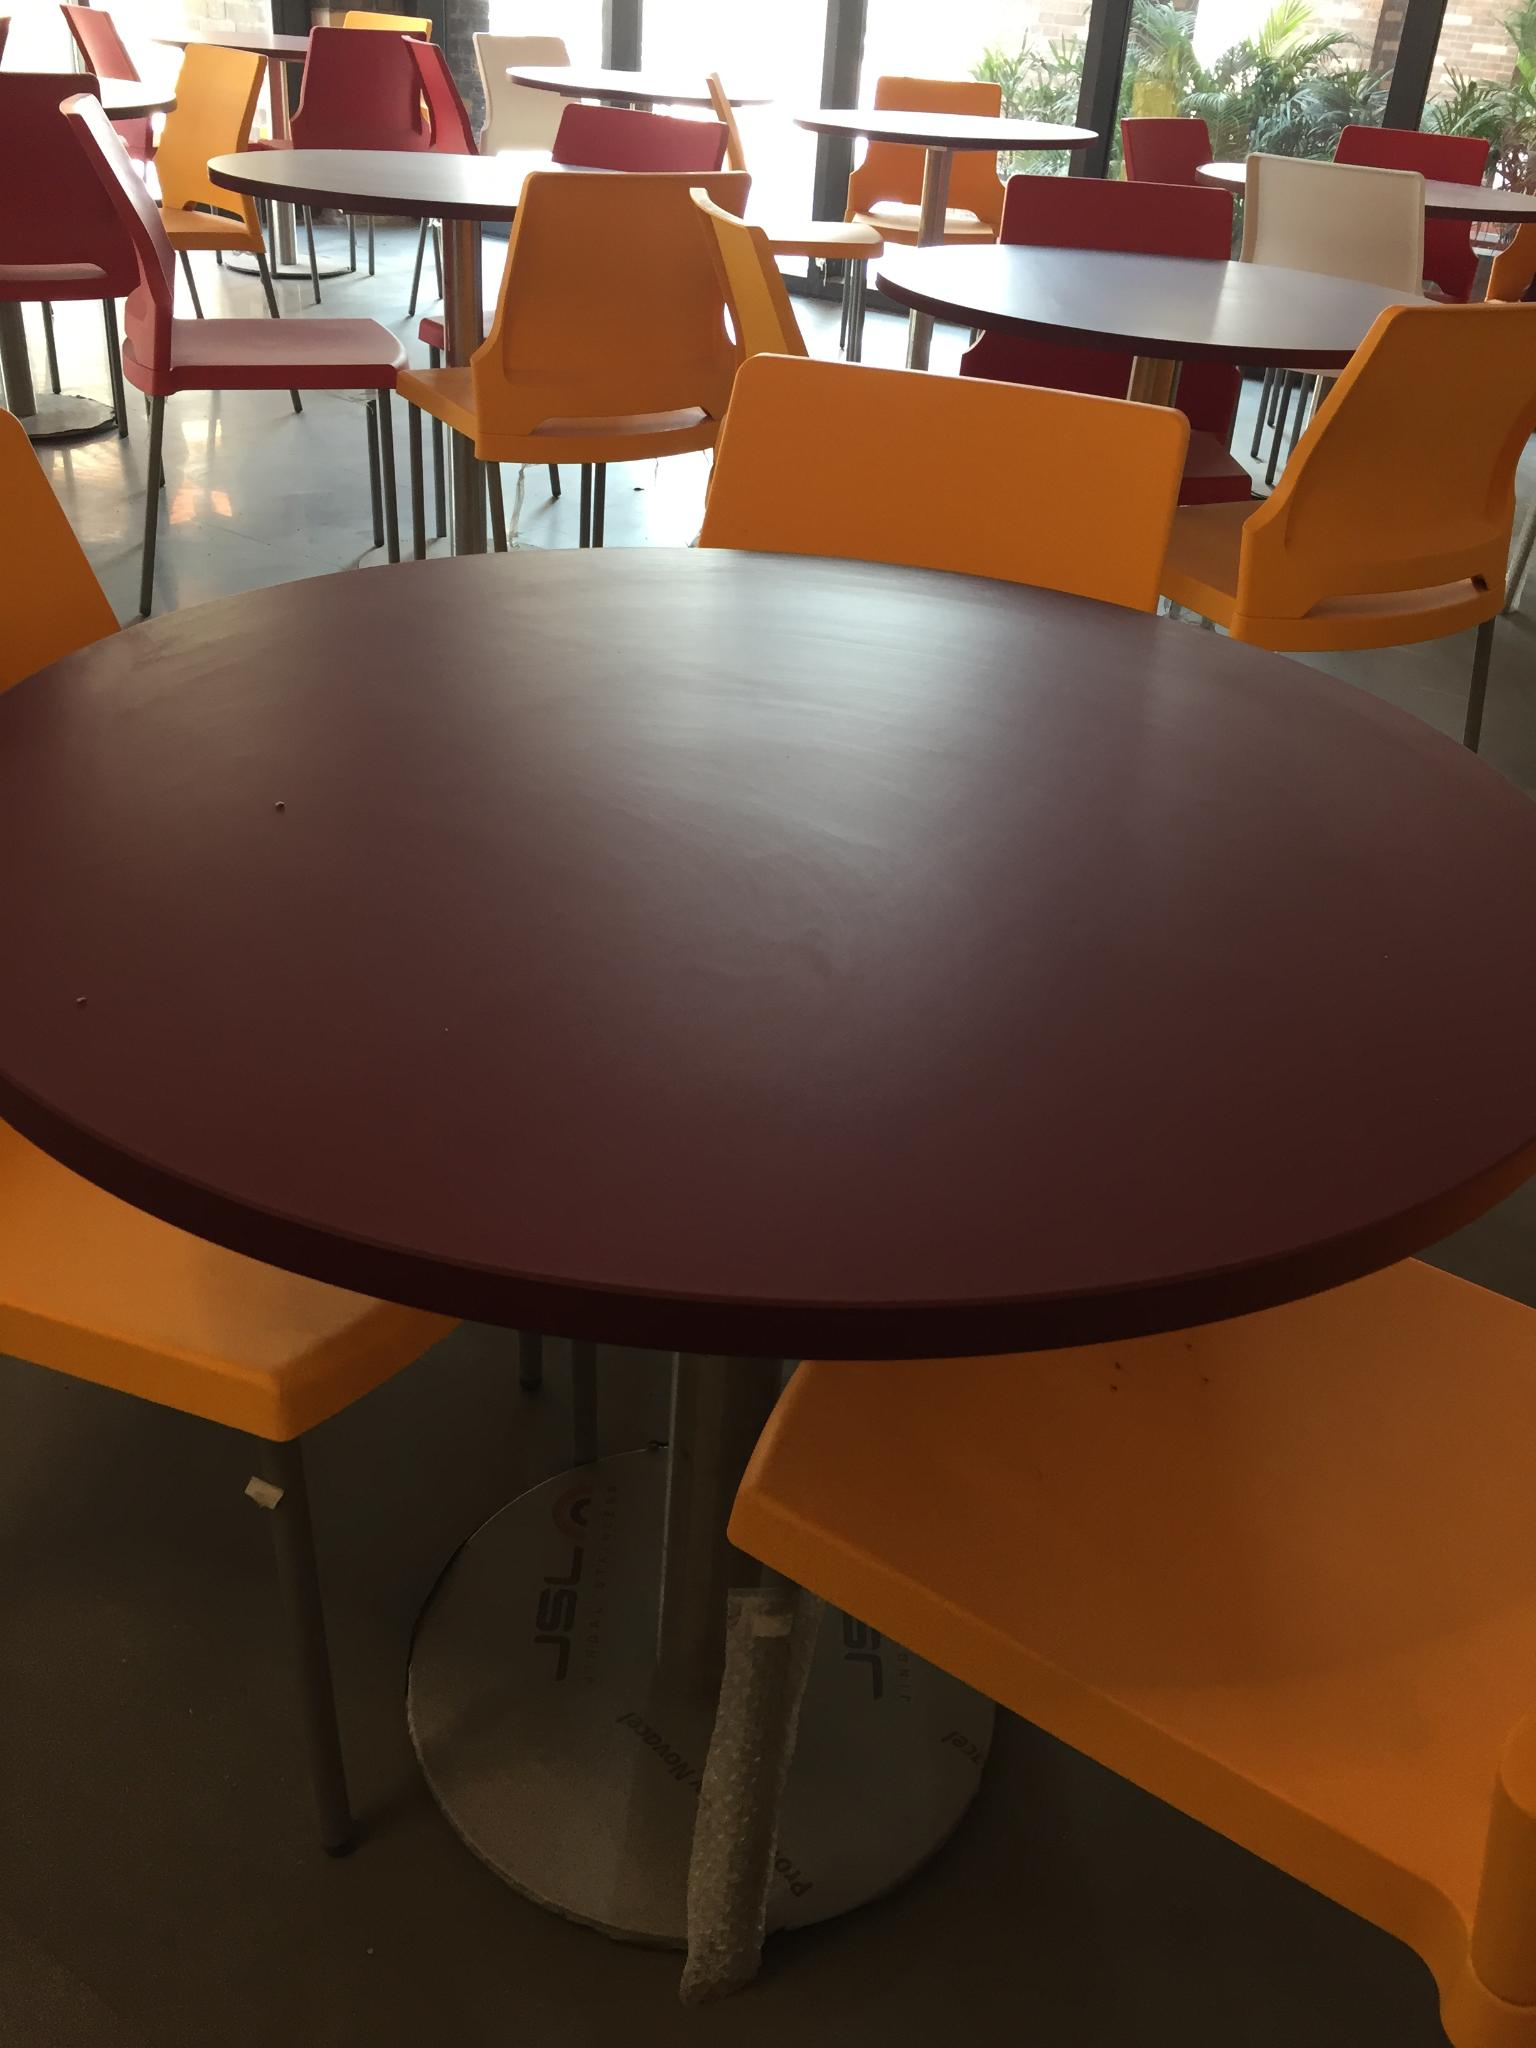chair: (2, 405, 466, 1858), (723, 1253, 1534, 2045), (58, 89, 407, 621), (1157, 298, 1534, 751), (397, 169, 797, 556), (691, 350, 1189, 614), (111, 45, 300, 421), (0, 66, 174, 469), (1239, 152, 1425, 484), (836, 76, 1005, 364), (1305, 108, 1492, 297), (457, 18, 663, 189), (821, 66, 1026, 235), (500, 100, 724, 224), (1120, 106, 1241, 219)
